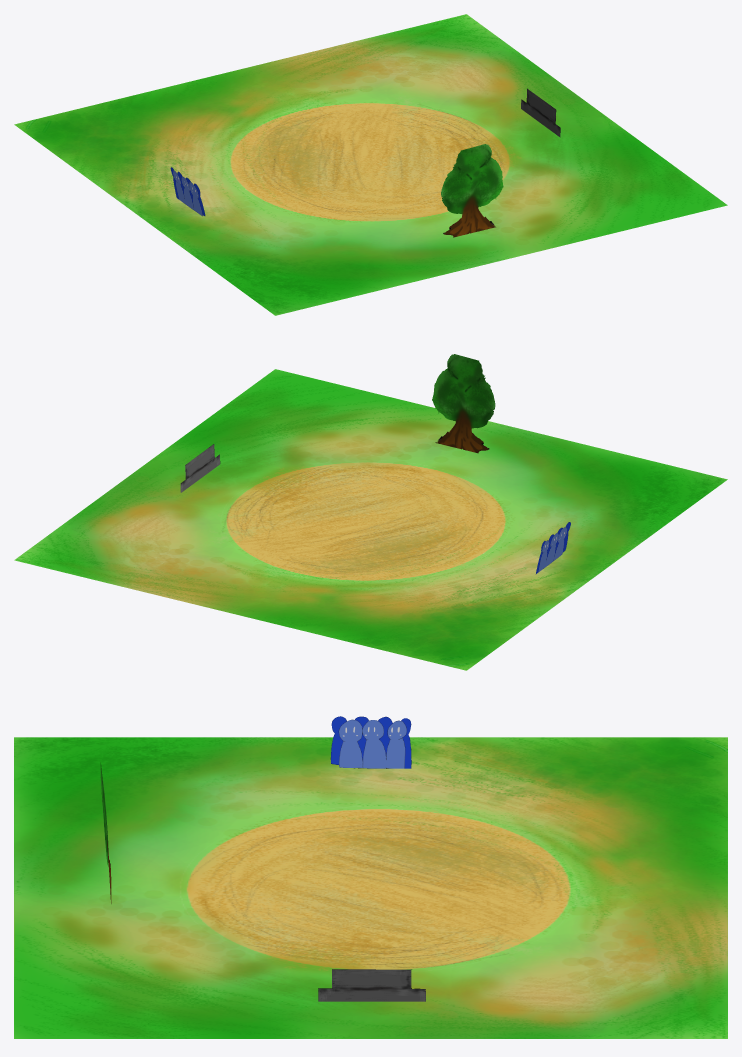
The model's file is stage01.fbx.
The picture shows the model from 3 angles, top to bottom: view 1: azimuth 30°, elevation 25°; view 2: azimuth 150°, elevation 25°; view 3: azimuth 270°, elevation 25°; orthographic projection. The views are drawn at different scales.
Parts seen in each view (by area): view 1: pPlane1, pPlane3, pPlane2, pPlane4; view 2: pPlane1, pPlane3, pPlane2, pPlane4; view 3: pPlane1, pPlane4, pPlane2.
Boxes of the visible parts, box(x1,y1,x2,y2) form: pPlane1: box(14, 14, 727, 315); pPlane3: box(441, 144, 503, 237); pPlane2: box(521, 88, 560, 137); pPlane4: box(170, 167, 205, 216); pPlane1: box(14, 369, 727, 670); pPlane3: box(432, 354, 495, 453); pPlane2: box(180, 444, 220, 492); pPlane4: box(536, 522, 570, 573); pPlane1: box(14, 737, 727, 1038); pPlane4: box(330, 716, 411, 768); pPlane2: box(318, 969, 425, 1001).
Size of the model in its own units: 8.68 by 2.23 by 8.68.
